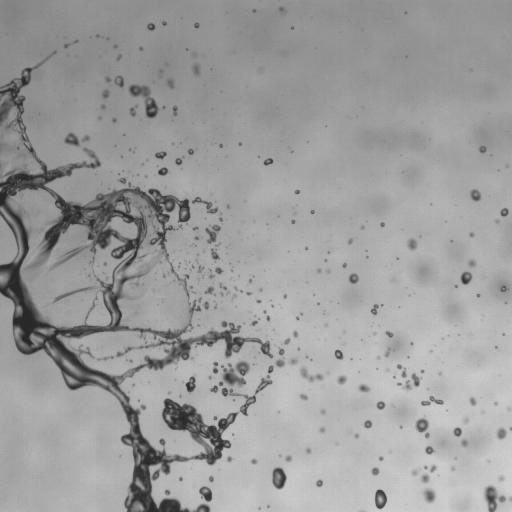droplet: (483, 484, 511, 511), (271, 466, 287, 489), (414, 415, 429, 438), (205, 223, 221, 243), (181, 373, 196, 394), (374, 488, 387, 509), (421, 487, 436, 503), (460, 271, 472, 285), (370, 304, 383, 316), (495, 427, 507, 439), (406, 237, 417, 250), (470, 189, 481, 201), (204, 285, 216, 296), (452, 425, 463, 437), (114, 75, 124, 88), (191, 62, 200, 76), (423, 464, 437, 473), (348, 273, 359, 284), (336, 374, 347, 385), (107, 82, 118, 93), (134, 95, 145, 106), (28, 135, 39, 146), (76, 151, 87, 162), (2, 152, 13, 163), (161, 156, 172, 167), (2, 162, 13, 173), (151, 177, 162, 188), (77, 195, 88, 206), (206, 213, 217, 224), (329, 256, 340, 267), (204, 257, 215, 268), (3, 298, 14, 309), (191, 326, 202, 337), (188, 327, 199, 338), (215, 338, 226, 349), (188, 344, 199, 355), (229, 352, 240, 363), (389, 352, 400, 363), (217, 355, 228, 366), (259, 355, 270, 366), (346, 377, 357, 388), (81, 383, 92, 394), (243, 383, 254, 394), (417, 406, 428, 417), (368, 408, 379, 419), (137, 414, 148, 425), (202, 415, 213, 426), (120, 422, 131, 433), (179, 428, 190, 439), (122, 444, 133, 455), (164, 445, 175, 456), (292, 449, 303, 460), (423, 454, 434, 465), (124, 459, 135, 470), (122, 471, 133, 482), (120, 487, 131, 498), (151, 492, 162, 503), (250, 314, 260, 326), (129, 103, 138, 116), (174, 155, 185, 165), (384, 347, 395, 357), (420, 472, 430, 483), (358, 383, 370, 392), (334, 349, 344, 359), (424, 445, 435, 454), (154, 151, 166, 159), (363, 419, 372, 429), (411, 467, 421, 476), (166, 78, 174, 89), (467, 259, 476, 268), (299, 392, 308, 401), (376, 400, 385, 409), (460, 438, 469, 447), (370, 466, 379, 475), (18, 86, 27, 95), (136, 105, 145, 114), (102, 110, 111, 119), (157, 158, 166, 167), (342, 267, 351, 276), (188, 269, 197, 278), (201, 278, 210, 287), (238, 280, 247, 289), (260, 300, 269, 309), (253, 303, 262, 312), (290, 320, 299, 329), (237, 329, 246, 338), (269, 345, 278, 354), (295, 351, 304, 360), (281, 352, 290, 361), (297, 357, 306, 366), (163, 363, 172, 372), (291, 364, 300, 373), (307, 366, 316, 375), (214, 371, 223, 380), (230, 382, 239, 391), (129, 399, 138, 408), (317, 416, 326, 425), (140, 428, 149, 437), (220, 430, 229, 439), (152, 442, 161, 451), (195, 444, 204, 453), (125, 464, 134, 473), (425, 480, 434, 489), (494, 487, 503, 496), (416, 493, 425, 502), (479, 499, 488, 508), (101, 89, 109, 99), (187, 148, 197, 156), (263, 157, 273, 165), (288, 357, 298, 365), (278, 6, 286, 15), (147, 22, 155, 31), (500, 208, 508, 217), (469, 396, 476, 406), (192, 234, 203, 240), (505, 289, 511, 300), (505, 430, 511, 441), (505, 471, 511, 482), (494, 505, 505, 511), (478, 145, 486, 153), (462, 416, 470, 424), (284, 454, 292, 462), (500, 285, 509, 292), (384, 330, 393, 337), (496, 474, 505, 481), (315, 478, 322, 487), (326, 247, 333, 255), (278, 0, 289, 5), (0, 254, 5, 265), (0, 272, 5, 283), (104, 76, 111, 83), (255, 297, 262, 304), (318, 426, 325, 433), (226, 456, 233, 463), (154, 21, 161, 28), (112, 48, 119, 55), (194, 56, 201, 63), (188, 57, 195, 64), (198, 65, 205, 72), (186, 68, 193, 75), (162, 72, 169, 79), (159, 77, 166, 84), (136, 79, 143, 86), (123, 80, 130, 87), (102, 82, 109, 89), (149, 91, 156, 98), (97, 96, 104, 103), (102, 97, 109, 104), (155, 100, 162, 107), (99, 109, 106, 116), (31, 114, 38, 121), (75, 132, 82, 139), (79, 140, 86, 147), (155, 145, 162, 152), (35, 150, 42, 157), (86, 156, 93, 163), (46, 163, 53, 170), (80, 166, 87, 173), (130, 180, 137, 187), (45, 181, 52, 188), (117, 182, 124, 189), (141, 185, 148, 192), (102, 187, 109, 194), (159, 188, 166, 195), (177, 193, 184, 200), (62, 194, 69, 201), (164, 230, 171, 237), (215, 231, 222, 238), (415, 238, 422, 245), (402, 245, 409, 252), (204, 251, 211, 258), (214, 259, 221, 266), (320, 262, 327, 269), (464, 265, 471, 272), (214, 273, 221, 280), (454, 277, 461, 284), (213, 286, 220, 293), (202, 293, 209, 300), (223, 294, 230, 301), (216, 325, 223, 332), (180, 332, 187, 339), (37, 348, 44, 355), (272, 352, 279, 359), (245, 357, 252, 364), (268, 358, 275, 365), (283, 362, 290, 369), (272, 365, 279, 372), (53, 366, 60, 373), (317, 367, 324, 374), (336, 369, 343, 376), (405, 369, 412, 376), (260, 370, 267, 377), (331, 373, 338, 380), (399, 376, 406, 383), (301, 377, 308, 384), (344, 378, 351, 385), (362, 378, 369, 385), (118, 382, 125, 389), (340, 382, 347, 389), (171, 395, 178, 402), (238, 397, 245, 404), (232, 405, 239, 412), (246, 405, 253, 412), (119, 411, 126, 418), (220, 411, 227, 418), (236, 412, 243, 419), (415, 412, 422, 419), (211, 419, 218, 426), (491, 425, 498, 432), (410, 426, 417, 433), (490, 431, 497, 438), (424, 438, 431, 445), (220, 447, 227, 454), (178, 449, 185, 456), (214, 458, 221, 465), (374, 460, 381, 467), (168, 461, 175, 468), (418, 468, 425, 475), (427, 471, 434, 478), (149, 479, 156, 486), (484, 479, 491, 486), (206, 481, 213, 488), (433, 490, 440, 497), (167, 492, 174, 499), (433, 494, 440, 501), (199, 497, 206, 504), (426, 501, 433, 508), (116, 53, 122, 61), (347, 237, 353, 245), (506, 280, 511, 289), (305, 447, 311, 454), (250, 458, 257, 464), (325, 268, 331, 274), (392, 372, 397, 379), (320, 408, 325, 415), (208, 475, 213, 482), (194, 22, 199, 28), (191, 52, 197, 57), (111, 117, 116, 123), (294, 189, 300, 194), (494, 218, 499, 224), (342, 262, 347, 268), (506, 406, 511, 412), (450, 465, 455, 471), (507, 209, 511, 216), (120, 507, 127, 511), (260, 507, 267, 511), (378, 507, 385, 511), (100, 104, 105, 109), (226, 204, 231, 209), (380, 222, 385, 227), (360, 225, 365, 230), (469, 232, 474, 237), (202, 248, 207, 253), (103, 261, 108, 266), (316, 268, 321, 273), (323, 322, 328, 327), (378, 456, 383, 461), (278, 1, 283, 6), (274, 8, 279, 13), (145, 18, 150, 23), (90, 31, 95, 36), (64, 38, 69, 43), (46, 49, 51, 54), (112, 53, 117, 58), (51, 54, 56, 59), (36, 57, 41, 62), (26, 62, 31, 67), (160, 64, 165, 69), (37, 65, 42, 70), (29, 70, 34, 75), (16, 73, 21, 78), (109, 74, 114, 79), (109, 79, 114, 84), (172, 81, 177, 86), (114, 84, 119, 89), (164, 85, 169, 90), (97, 90, 102, 95), (22, 100, 27, 105), (95, 103, 100, 108), (124, 108, 129, 113), (168, 108, 173, 113), (155, 112, 160, 117), (126, 113, 131, 118), (132, 115, 137, 120), (147, 116, 152, 121), (22, 119, 27, 124), (62, 132, 67, 137), (88, 132, 93, 137), (477, 141, 482, 146), (482, 141, 487, 146), (69, 143, 74, 148), (474, 144, 479, 149), (32, 145, 37, 150), (485, 148, 490, 153), (183, 151, 188, 156), (261, 155, 266, 160), (98, 157, 103, 162), (71, 158, 76, 163), (77, 158, 82, 163), (181, 158, 186, 163), (94, 166, 99, 171), (88, 167, 93, 172), (153, 167, 158, 172), (71, 168, 76, 173), (119, 172, 124, 177), (158, 174, 163, 179), (152, 184, 157, 189), (472, 184, 477, 189), (289, 189, 294, 194), (479, 194, 484, 199), (200, 195, 205, 200), (187, 196, 192, 201), (470, 199, 475, 204), (187, 201, 192, 206), (210, 203, 215, 208), (2, 210, 7, 215), (497, 214, 502, 219), (6, 215, 11, 220), (187, 217, 192, 222), (216, 220, 221, 225), (180, 221, 185, 226), (4, 224, 9, 229), (192, 230, 197, 235), (204, 233, 209, 238), (464, 233, 469, 238), (343, 236, 348, 241), (193, 239, 198, 244), (163, 240, 168, 245), (351, 240, 356, 245), (209, 241, 214, 246), (411, 248, 416, 253), (206, 249, 211, 254), (215, 249, 220, 254), (324, 253, 329, 258), (168, 254, 173, 259), (468, 254, 473, 259), (475, 259, 480, 264), (231, 260, 236, 265), (172, 261, 177, 266), (180, 262, 185, 267), (193, 265, 198, 270), (210, 265, 215, 270), (320, 267, 325, 272), (211, 270, 216, 275), (231, 271, 236, 276), (316, 272, 321, 277), (178, 273, 183, 278), (203, 273, 208, 278), (344, 273, 349, 278), (357, 274, 362, 279), (345, 280, 350, 285), (467, 280, 472, 285), (350, 282, 355, 287), (226, 284, 231, 289), (236, 284, 241, 289), (202, 285, 207, 290), (242, 287, 247, 292), (230, 288, 235, 293), (215, 293, 220, 298), (188, 297, 193, 302), (279, 297, 284, 302), (313, 297, 318, 302), (200, 298, 205, 303), (208, 302, 213, 307), (199, 304, 204, 309), (192, 310, 197, 315), (368, 312, 373, 317), (261, 313, 266, 318), (7, 318, 12, 323), (190, 319, 195, 324), (370, 326, 375, 331), (388, 327, 393, 332), (296, 329, 301, 334), (249, 333, 254, 338), (281, 335, 286, 340), (289, 335, 294, 340), (260, 337, 265, 342), (287, 341, 292, 346), (202, 342, 207, 347), (255, 342, 260, 347), (280, 343, 285, 348), (11, 344, 16, 349), (381, 347, 386, 352), (16, 350, 21, 355), (341, 350, 346, 355), (388, 351, 393, 356), (259, 352, 264, 357), (379, 352, 384, 357), (185, 358, 190, 363), (336, 358, 341, 363), (400, 361, 405, 366), (209, 363, 214, 368), (143, 365, 148, 370), (263, 365, 268, 370), (149, 367, 154, 372), (156, 367, 161, 372), (217, 367, 222, 372), (397, 368, 402, 373), (208, 370, 213, 375), (133, 371, 138, 376), (415, 371, 420, 376), (242, 374, 247, 379), (406, 374, 411, 379), (184, 377, 189, 382), (59, 378, 64, 383), (313, 378, 318, 383), (418, 379, 423, 384), (265, 384, 270, 389), (181, 385, 186, 390), (217, 385, 222, 390), (64, 386, 69, 391), (192, 387, 197, 392), (302, 389, 307, 394), (104, 390, 109, 395), (360, 390, 365, 395), (248, 391, 253, 396), (305, 391, 310, 396), (254, 393, 259, 398), (225, 394, 230, 399), (433, 394, 438, 399), (474, 396, 479, 401), (299, 398, 304, 403), (140, 399, 145, 404), (430, 400, 435, 405), (465, 400, 470, 405), (178, 401, 183, 406), (159, 403, 164, 408), (382, 406, 387, 411), (324, 407, 329, 412), (378, 408, 383, 413), (424, 415, 429, 420), (360, 417, 365, 422), (370, 418, 375, 423), (162, 422, 167, 427), (359, 423, 364, 428), (370, 423, 375, 428), (457, 423, 462, 428), (315, 424, 320, 429), (449, 425, 454, 430), (361, 426, 366, 431), (504, 426, 509, 431), (324, 427, 329, 432), (425, 427, 430, 432), (460, 427, 465, 432), (352, 428, 357, 433), (419, 431, 424, 436), (449, 431, 454, 436), (319, 432, 324, 437), (459, 433, 464, 438), (349, 434, 354, 439), (355, 437, 360, 442), (466, 437, 471, 442), (116, 438, 121, 443), (305, 442, 310, 447), (466, 442, 471, 447), (431, 444, 436, 449), (300, 447, 305, 452), (310, 447, 315, 452), (420, 447, 425, 452), (286, 450, 291, 455), (378, 451, 383, 456), (185, 452, 190, 457), (281, 452, 286, 457), (306, 453, 311, 458), (425, 453, 430, 458), (128, 454, 133, 459), (248, 454, 253, 459), (253, 454, 258, 459), (382, 454, 387, 459), (201, 458, 206, 463), (256, 458, 261, 463), (186, 459, 191, 464), (450, 459, 455, 464), (410, 464, 415, 469), (367, 465, 372, 470), (377, 466, 382, 471), (282, 468, 287, 473), (424, 468, 429, 473), (158, 470, 163, 475), (497, 470, 502, 475), (367, 471, 372, 476), (406, 471, 411, 476), (267, 473, 272, 478), (503, 473, 508, 478), (371, 474, 376, 479), (312, 477, 317, 482), (283, 480, 288, 485), (268, 481, 273, 486), (196, 483, 201, 488), (271, 485, 276, 490), (371, 488, 376, 493), (383, 489, 388, 494), (370, 491, 375, 496), (210, 492, 215, 497), (504, 493, 509, 498), (370, 494, 375, 499), (504, 498, 509, 503), (370, 499, 375, 504), (383, 503, 388, 508), (283, 293, 287, 299), (0, 205, 3, 212), (0, 292, 3, 299), (161, 21, 166, 25), (139, 46, 143, 51), (97, 116, 102, 120), (322, 310, 326, 315), (372, 331, 377, 335), (385, 367, 389, 372), (494, 401, 498, 406), (178, 476, 182, 481), (252, 8, 256, 12), (113, 44, 117, 48), (219, 143, 223, 147), (238, 142, 242, 146), (144, 174, 148, 178), (310, 209, 314, 213), (292, 211, 296, 215), (291, 219, 295, 223), (304, 246, 308, 250), (258, 288, 262, 292), (476, 293, 480, 297), (270, 303, 274, 307), (262, 309, 266, 313), (295, 316, 299, 320), (196, 323, 200, 327), (342, 329, 346, 333), (494, 345, 498, 349), (429, 349, 433, 353), (376, 355, 380, 359), (420, 369, 424, 373), (167, 390, 171, 394), (480, 410, 484, 414), (388, 449, 392, 453), (118, 454, 122, 458), (486, 459, 490, 463), (230, 267, 233, 272), (179, 393, 182, 398), (508, 161, 511, 166), (508, 402, 511, 407), (208, 508, 213, 511), (376, 508, 381, 511), (95, 34, 99, 37), (162, 105, 165, 109), (145, 158, 148, 162), (505, 164, 509, 167), (135, 173, 139, 176), (243, 199, 247, 202), (324, 258, 327, 262), (391, 278, 395, 281), (454, 284, 458, 287), (410, 341, 413, 345), (297, 347, 300, 351), (349, 357, 352, 361), (438, 371, 441, 375), (131, 383, 134, 387), (399, 424, 402, 428), (335, 442, 339, 445), (278, 454, 282, 457), (258, 506, 261, 510), (509, 426, 511, 431), (0, 215, 2, 220), (404, 11, 407, 14), (291, 26, 294, 29), (106, 37, 109, 40), (164, 63, 167, 66), (171, 142, 174, 145), (120, 155, 123, 158), (257, 155, 260, 158), (365, 255, 368, 258), (228, 262, 231, 265), (504, 301, 507, 304), (316, 302, 319, 305), (300, 312, 303, 315), (272, 328, 275, 331), (502, 332, 505, 335), (406, 355, 409, 358), (137, 398, 140, 401), (277, 410, 280, 413), (454, 457, 457, 460), (252, 5, 255, 8), (249, 7, 252, 10), (401, 9, 404, 12), (249, 10, 252, 13), (254, 11, 257, 14), (163, 18, 166, 21), (164, 24, 167, 27), (191, 24, 194, 27), (198, 24, 201, 27), (287, 25, 290, 28), (293, 25, 296, 28), (145, 27, 148, 30), (194, 27, 197, 30), (152, 28, 155, 31), (288, 28, 291, 31), (148, 29, 151, 32), (94, 31, 97, 34), (98, 32, 101, 35), (103, 35, 106, 38), (97, 36, 100, 39), (72, 37, 75, 40), (74, 42, 77, 45), (60, 43, 63, 46), (141, 44, 144, 47), (67, 45, 70, 48), (187, 46, 190, 49), (64, 47, 67, 50), (136, 47, 139, 50), (182, 48, 185, 51), (139, 50, 142, 53), (185, 50, 188, 53), (119, 57, 122, 60), (117, 72, 120, 75), (130, 104, 133, 107), (112, 114, 115, 117), (172, 115, 175, 118), (109, 120, 112, 123), (114, 121, 117, 124), (25, 129, 28, 132), (122, 135, 125, 138), (216, 141, 219, 144), (235, 142, 238, 145), (241, 142, 244, 145), (222, 144, 225, 147), (126, 145, 129, 148), (216, 145, 219, 148), (238, 145, 241, 148), (191, 146, 194, 149), (130, 147, 133, 150), (290, 147, 293, 150), (162, 148, 165, 151), (287, 148, 290, 151), (134, 149, 137, 152), (292, 151, 295, 154), (477, 151, 480, 154), (122, 154, 125, 157), (189, 154, 192, 157), (163, 155, 166, 158), (178, 155, 181, 158), (254, 155, 257, 158), (157, 157, 160, 160), (142, 159, 145, 162), (272, 159, 275, 162), (179, 163, 182, 166), (123, 168, 126, 171), (133, 171, 136, 174), (117, 175, 120, 178), (296, 186, 299, 189), (295, 193, 298, 196), (229, 203, 232, 206), (310, 206, 313, 209), (313, 209, 316, 212), (307, 211, 310, 214), (208, 212, 211, 215), (311, 213, 314, 216), (220, 214, 223, 217), (291, 216, 294, 219), (381, 219, 384, 222), (288, 220, 291, 223), (294, 220, 297, 223), (362, 222, 365, 225), (195, 223, 198, 226), (291, 223, 294, 226), (358, 223, 361, 226), (266, 224, 269, 227), (377, 224, 380, 227), (381, 226, 384, 229), (178, 227, 181, 230), (360, 229, 363, 232), (468, 229, 471, 232), (449, 236, 452, 239), (468, 236, 471, 239), (301, 245, 304, 248), (307, 245, 310, 248), (367, 248, 370, 251), (305, 249, 308, 252), (364, 251, 367, 254), (193, 254, 196, 257), (392, 256, 395, 259), (398, 256, 401, 259), (185, 257, 188, 260), (168, 258, 171, 261), (365, 258, 368, 261), (180, 259, 183, 262), (395, 259, 398, 262), (188, 263, 191, 266), (339, 263, 342, 266), (228, 265, 231, 268), (340, 266, 343, 269), (232, 267, 235, 270), (202, 268, 205, 271), (313, 269, 316, 272), (198, 274, 201, 277), (188, 275, 191, 278), (249, 275, 252, 278), (502, 282, 505, 285), (259, 284, 262, 287), (498, 284, 501, 287), (191, 287, 194, 290), (453, 287, 456, 290), (262, 288, 265, 291), (497, 288, 500, 291), (247, 289, 250, 292), (312, 289, 315, 292), (505, 289, 508, 292), (236, 290, 239, 293), (476, 290, 479, 293), (242, 291, 245, 294), (500, 291, 503, 294), (280, 292, 283, 295), (309, 292, 312, 295), (410, 292, 413, 295), (248, 294, 251, 297), (286, 294, 289, 297), (473, 294, 476, 297), (479, 294, 482, 297), (195, 296, 198, 299), (257, 296, 260, 299), (476, 296, 479, 299), (232, 297, 235, 300), (253, 299, 256, 302), (380, 300, 383, 303), (271, 301, 274, 304), (313, 301, 316, 304), (258, 302, 261, 305), (319, 302, 322, 305), (504, 303, 507, 306), (216, 304, 219, 307), (315, 304, 318, 307), (260, 308, 263, 311), (302, 312, 305, 315), (298, 314, 301, 317), (292, 316, 295, 319), (269, 317, 272, 320), (257, 319, 260, 322), (295, 319, 298, 322), (239, 322, 242, 325), (254, 323, 257, 326), (504, 331, 507, 334), (369, 332, 372, 335), (385, 334, 388, 337), (501, 335, 504, 338), (389, 336, 392, 339), (407, 340, 410, 343), (412, 340, 415, 343), (494, 342, 497, 345), (408, 344, 411, 347), (497, 344, 500, 347), (491, 345, 494, 348), (299, 346, 302, 349), (390, 346, 393, 349), (494, 348, 497, 351), (331, 351, 334, 354), (407, 352, 410, 355), (265, 354, 268, 357), (308, 355, 311, 358), (332, 355, 335, 358), (352, 356, 355, 359), (408, 357, 411, 360), (375, 364, 378, 367), (420, 366, 423, 369), (372, 367, 375, 370), (377, 368, 380, 371), (436, 369, 439, 372), (441, 371, 444, 374), (189, 373, 192, 376), (389, 375, 392, 378), (438, 375, 441, 378), (134, 382, 137, 385), (397, 385, 400, 388), (262, 387, 265, 390), (210, 391, 213, 394), (232, 395, 235, 398), (377, 398, 380, 401), (493, 398, 496, 401), (490, 402, 493, 405), (497, 402, 500, 405), (424, 404, 427, 407), (447, 408, 450, 411), (279, 409, 282, 412), (445, 411, 448, 414), (397, 422, 400, 425), (401, 423, 404, 426), (396, 426, 399, 429), (367, 427, 370, 430), (428, 433, 431, 436), (157, 436, 160, 439), (163, 437, 166, 440), (230, 443, 233, 446), (431, 451, 434, 454), (230, 459, 233, 462), (251, 463, 254, 466), (453, 465, 456, 468), (377, 472, 380, 475), (181, 475, 184, 478), (212, 476, 215, 479), (175, 477, 178, 480), (320, 477, 323, 480), (181, 478, 184, 481), (178, 480, 181, 483), (321, 481, 324, 484), (165, 486, 168, 489), (122, 497, 125, 500), (255, 504, 258, 507), (263, 504, 266, 507), (267, 507, 270, 510), (252, 363, 256, 365), (267, 504, 269, 508), (185, 48, 188, 50), (470, 68, 472, 71), (117, 173, 120, 175), (430, 203, 433, 205), (203, 217, 206, 219), (450, 240, 453, 242), (396, 257, 399, 259), (305, 281, 308, 283), (313, 293, 315, 296), (408, 294, 411, 296), (242, 322, 245, 324), (457, 333, 460, 335), (375, 368, 378, 370), (232, 399, 235, 401), (509, 410, 511, 413), (509, 423, 511, 426), (257, 509, 260, 511), (325, 125, 327, 127), (123, 133, 125, 135), (490, 154, 492, 156), (156, 165, 158, 167), (497, 169, 499, 171), (266, 223, 268, 225), (419, 235, 421, 237), (365, 249, 367, 251), (269, 299, 271, 301), (174, 379, 176, 381), (232, 433, 234, 435), (114, 145, 116, 146), (122, 170, 124, 171), (132, 174, 133, 176), (446, 409, 447, 411), (406, 56, 407, 57), (238, 275, 239, 276)
ligament: (129, 84, 159, 118), (299, 365, 330, 384), (396, 372, 422, 391), (64, 132, 90, 147), (194, 253, 204, 283), (420, 394, 445, 405), (210, 241, 221, 264), (208, 361, 218, 379), (346, 428, 359, 439), (63, 39, 78, 48), (154, 167, 169, 175), (292, 329, 299, 340), (154, 297, 165, 303), (305, 354, 313, 361), (172, 105, 177, 116), (248, 275, 254, 284), (212, 300, 217, 310), (158, 69, 163, 78), (266, 315, 270, 324), (245, 291, 253, 295), (289, 146, 293, 153), (189, 243, 196, 247), (277, 303, 282, 308), (357, 509, 366, 511), (141, 162, 144, 167), (441, 335, 444, 340), (172, 250, 175, 254), (247, 311, 252, 313), (340, 343, 345, 345), (229, 276, 231, 280), (253, 355, 255, 359)
